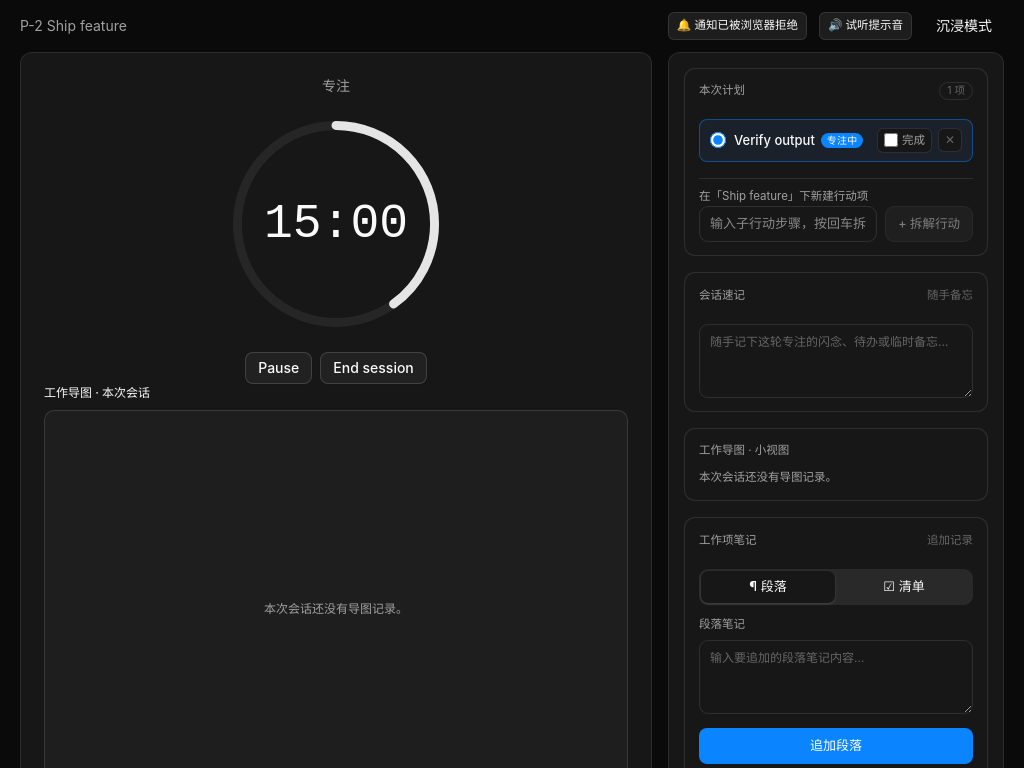
TimerPage 沉浸模式与二级归属（工单 B 2026-09-14） › ★ 沉浸可逆：data-immersive 翻转，「退出沉浸」不在渐隐区内（永不渐隐）
The image size is (1024, 768).
Click the button "沉浸模式".
click(964, 26)  # box [924,10,1004,42]
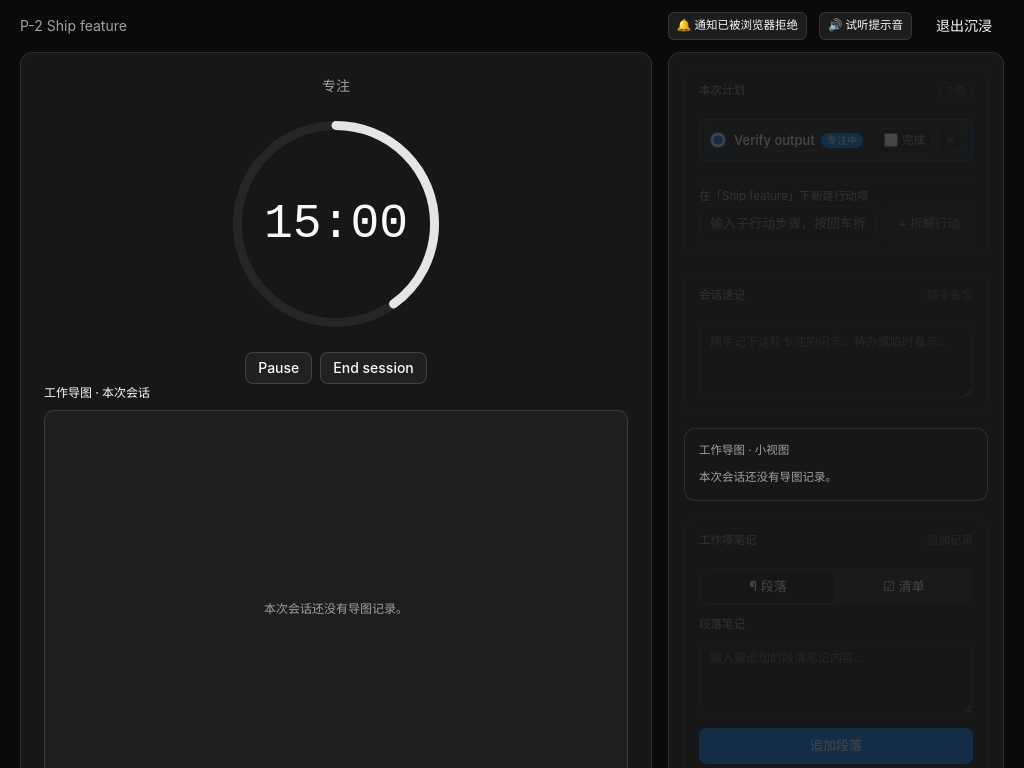
Expected: the button "退出沉浸" is pressed
Click the button "退出沉浸".
click(964, 26)  # box [924,10,1004,42]
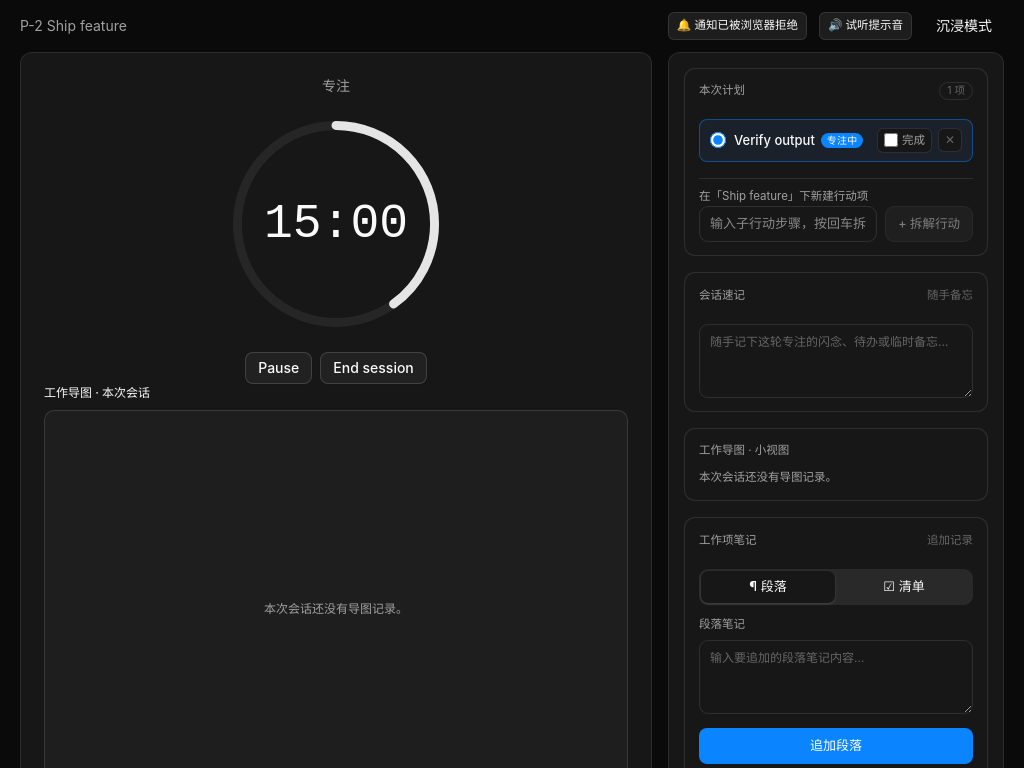
Expected: the button "沉浸模式" is shown, [924,10,1004,42]
